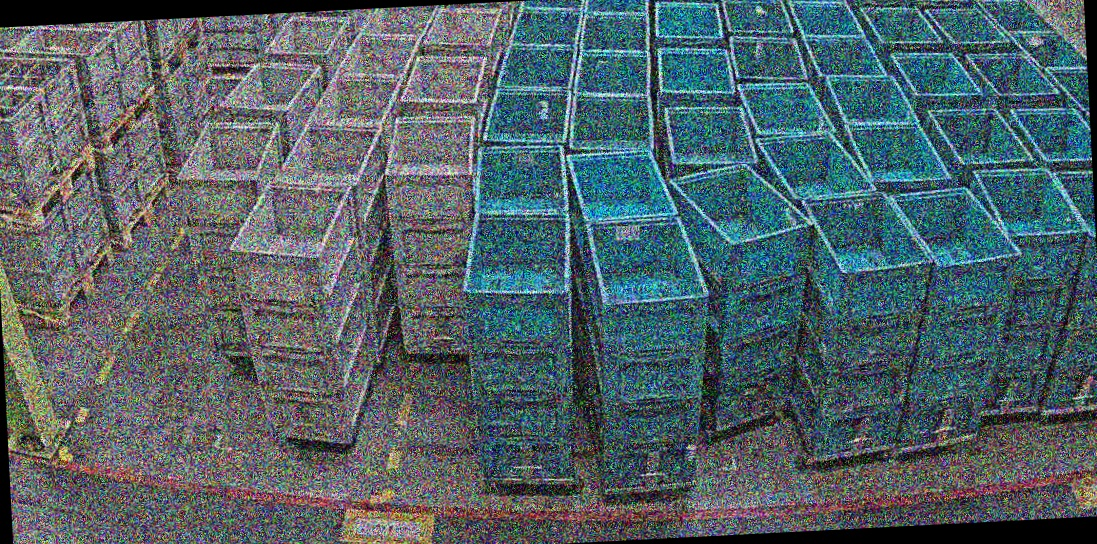4G: (225, 176, 381, 446), (173, 118, 294, 355), (381, 112, 488, 354)
B4: (777, 186, 945, 458), (665, 159, 825, 428), (577, 212, 720, 491), (885, 183, 1032, 450), (457, 205, 585, 484), (958, 164, 1094, 413)
